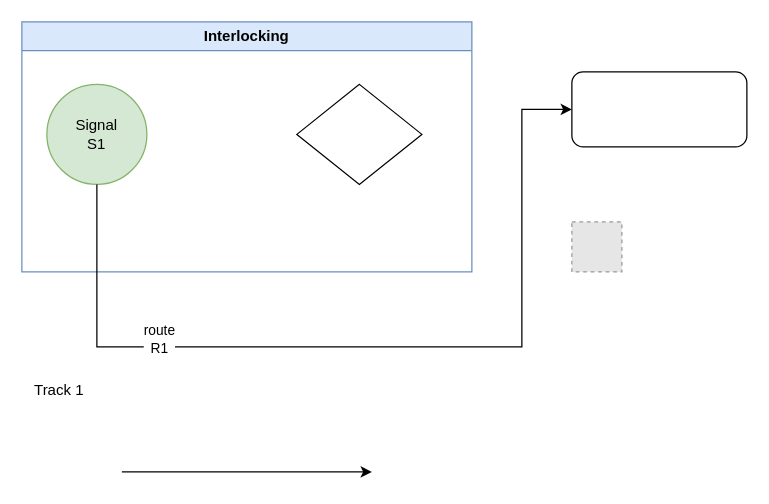
Some shapes in this 769 by 504 pixel diagram are drawn without their labels. Grey dashed boxes stand in for pictures. The shapes that lost their labels are listed below. From the top down, each one's centre as x and y in pixels, then its label:
At [659,109]: "Balise B12 (12.345)".
At [359,133]: "Point P1".
